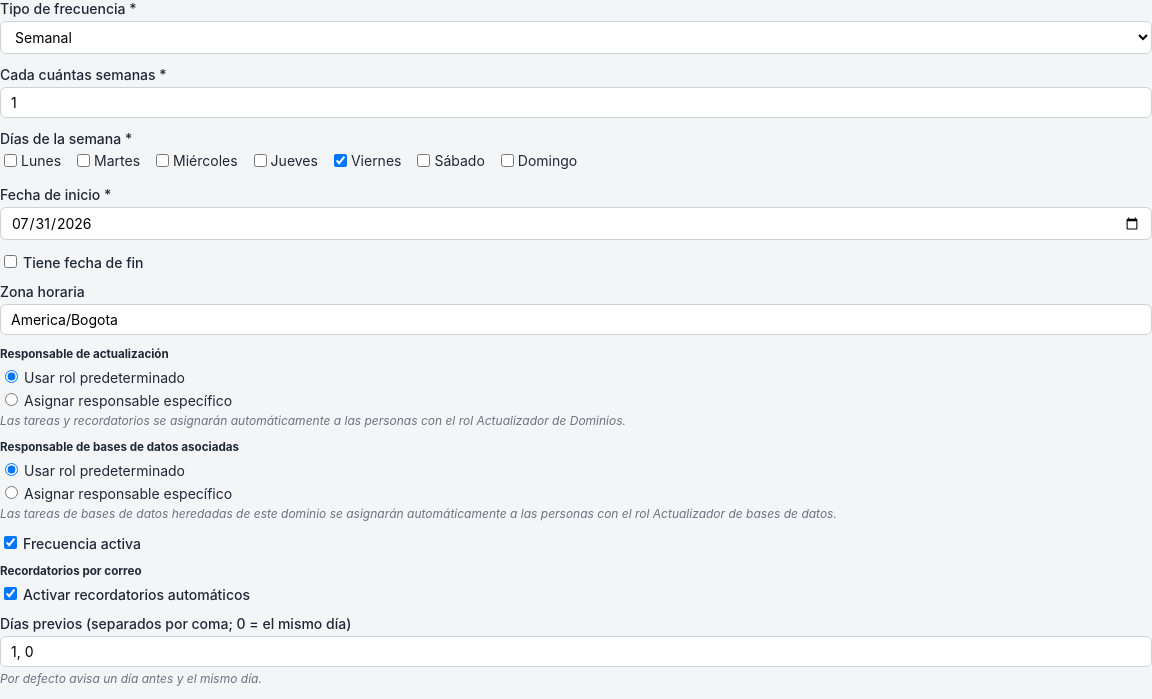
Scenario: SeleccionFrecuencia › muestra selector al elegir responsable especifico y no lista usuarios inactivos
Click the 1st radio button labelled "Asignar responsable específico": (12, 400) top-left (5, 393), bottom-right (18, 406)
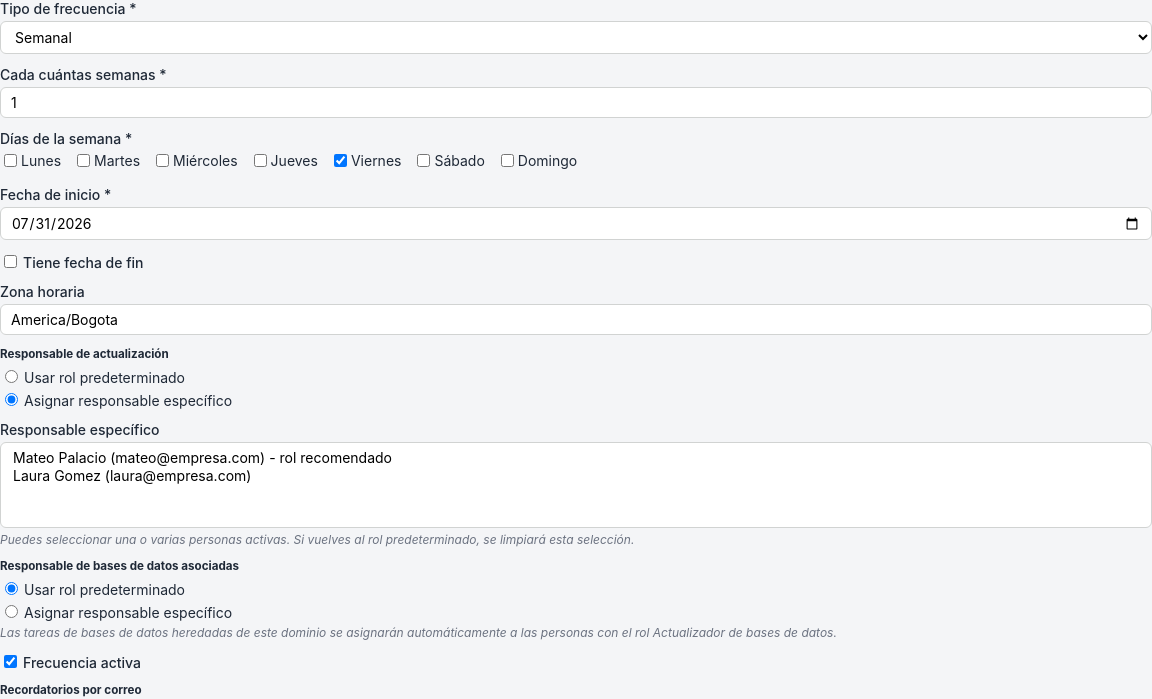
expect the text "Mateo Palacio" is shown: met, box top-left (11, 449), bottom-right (1141, 467)
expect the dropdown named "Responsable específico" is shown: met, box top-left (0, 442), bottom-right (1151, 528)
